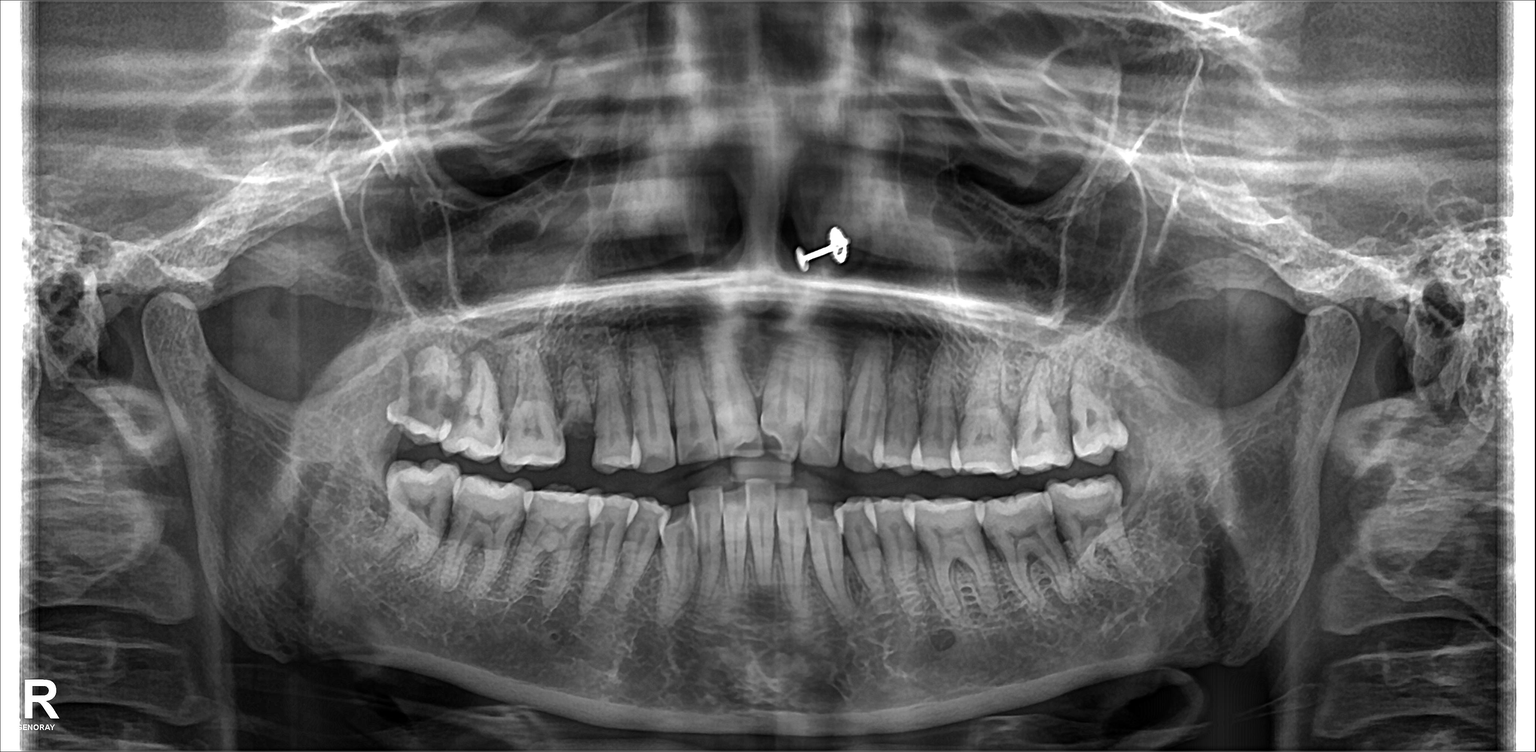Dental Caries: (402, 382, 454, 423), (737, 430, 785, 454)
Retained Root: (555, 367, 600, 450)
